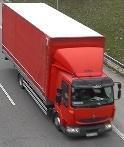truck: (1, 3, 121, 137)
